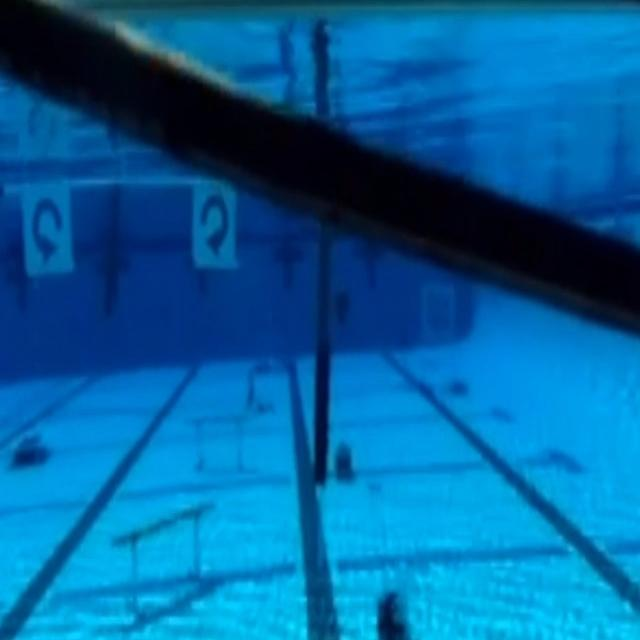Gate: (4, 137, 358, 494)
